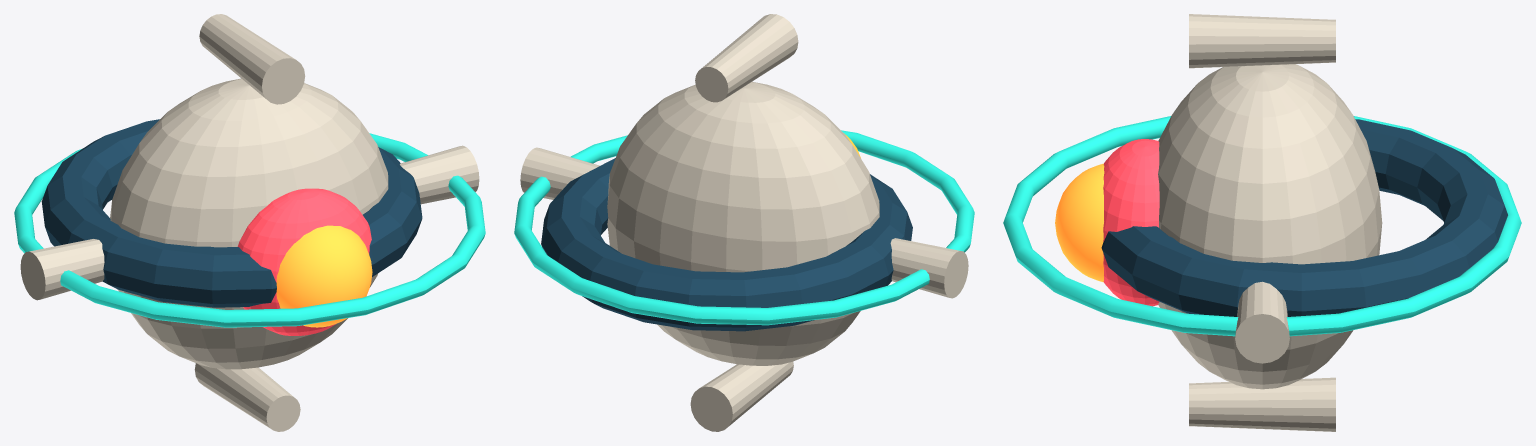
File: enemy-bio.glb
3 views of the same model, side by side, from view 1: azimuth 30°, elevation 25°; view 2: azimuth 150°, elevation 25°; view 3: azimuth 270°, elevation 25° (orthographic). The views are drawn at different scales.
Visible parts, largest first — view 1: hull_static, accent_static, aim_ring, target_eye, hazard_static; view 2: hull_static, accent_static, aim_ring; view 3: hull_static, accent_static, aim_ring, hazard_static, target_eye.
Boxes of the visible parts, left/top/right/bottom form: hull_static: left=20, top=14, right=479, bottom=431; accent_static: left=41, top=119, right=422, bottom=307; aim_ring: left=14, top=133, right=485, bottom=327; target_eye: left=276, top=225, right=372, bottom=327; hazard_static: left=237, top=188, right=371, bottom=335; hull_static: left=520, top=14, right=968, bottom=431; accent_static: left=541, top=158, right=912, bottom=331; aim_ring: left=514, top=130, right=974, bottom=325; hull_static: left=1158, top=14, right=1382, bottom=431; accent_static: left=1101, top=119, right=1507, bottom=316; aim_ring: left=1003, top=116, right=1521, bottom=336; hazard_static: left=1103, top=139, right=1159, bottom=306; target_eye: left=1055, top=163, right=1104, bottom=282.
Size of the model in its own units: 560 by 466 by 530.
